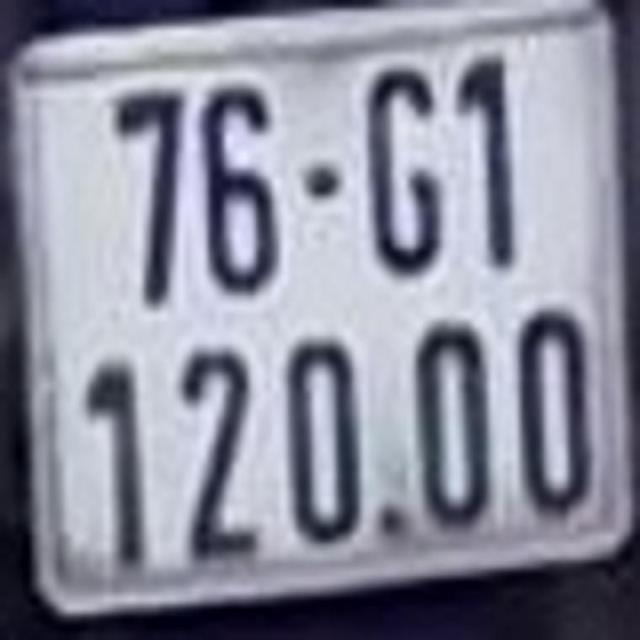0: (512, 305, 596, 513), (409, 322, 490, 521), (284, 340, 358, 543)
1: (454, 55, 533, 272), (84, 356, 158, 572)
2: (180, 345, 264, 561)
6: (198, 82, 280, 296)
7: (112, 92, 184, 302)
G: (359, 65, 446, 273)
